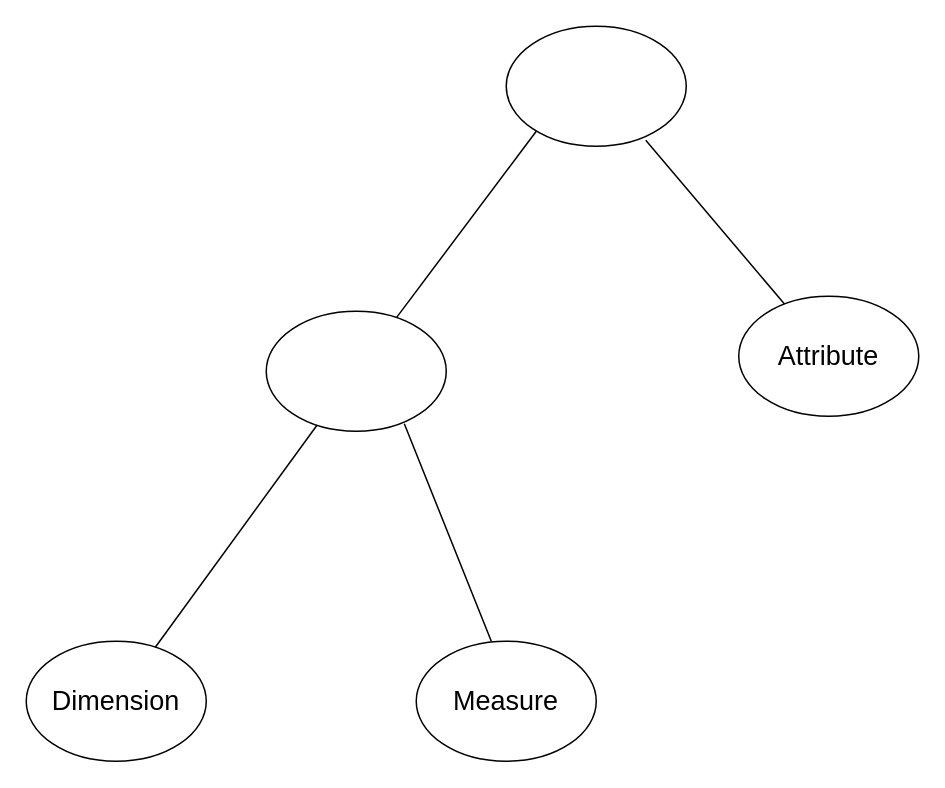
Image size: 945x788. Some labels were removed from this diagram. Here are the shapes that lost their labels. From the top down, the centre of each, then its label:
pixel 595 85: Datasource
pixel 355 370: Datacube
